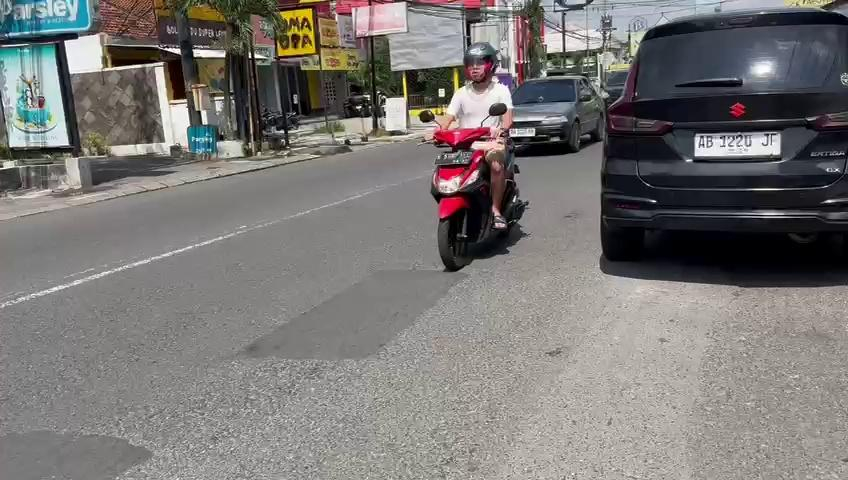helm: (460, 37, 501, 86)
riding: (414, 34, 538, 277)
